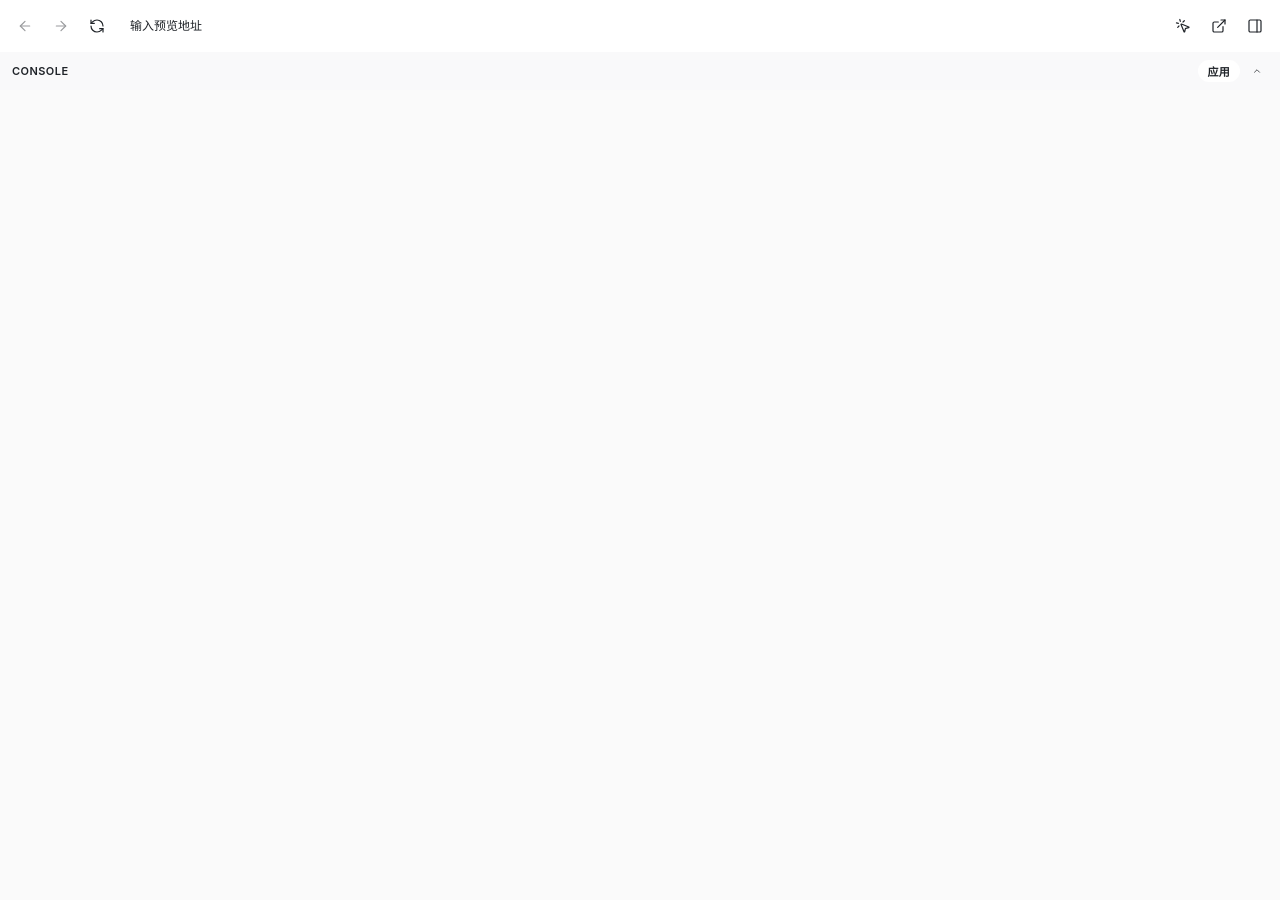
AiWebPreviewSidebar › collapses the console body but keeps the header bar
Expected: the element with test id "web-preview-console" is shown, left=0, top=52, right=1279, bottom=90
Click the button with test id "web-preview-console-toggle". click: (1257, 71)
box: left=1246, top=60, right=1268, bottom=82
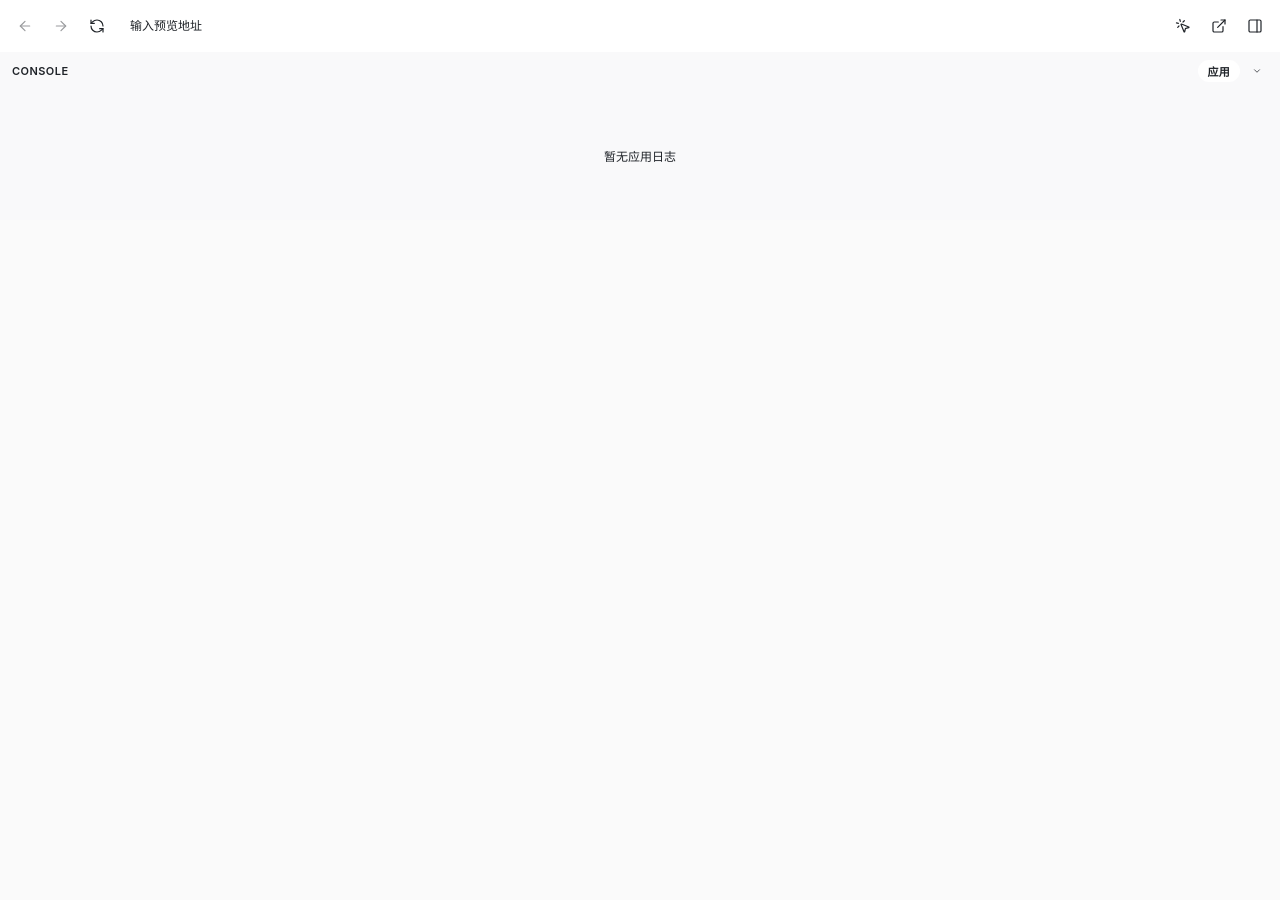
Expected: the element with test id "web-preview-console" is shown, left=0, top=52, right=1279, bottom=220
Result: the text "暂无应用日志" is shown at left=0, top=90, right=1279, bottom=220
Result: the element with test id "web-preview-console" shows "暂无应用日志" at left=604, top=148, right=676, bottom=164
